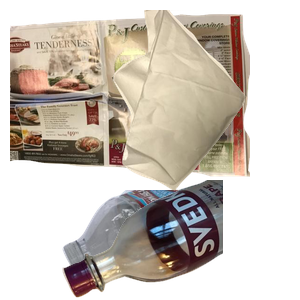glass: (60, 180, 300, 300)
paper: (10, 11, 250, 180)
plastic: (60, 190, 300, 280)
trash: (111, 10, 300, 190)
